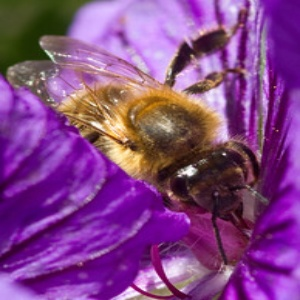bee: (3, 22, 277, 262)
